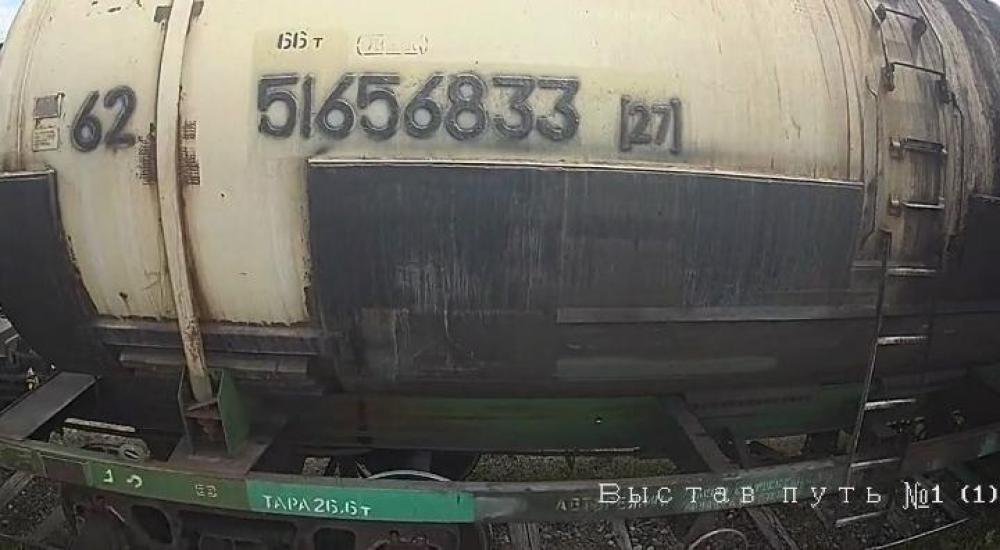Wagon-number: (251, 69, 588, 148)
